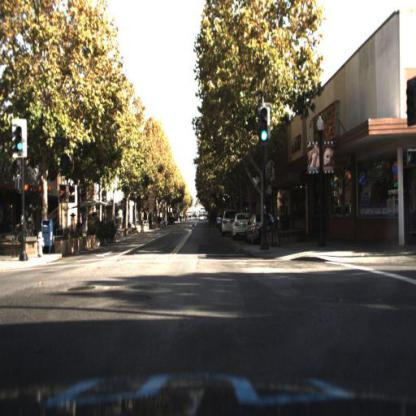car: (245, 209, 273, 241), (232, 210, 251, 242), (221, 201, 238, 235), (233, 213, 249, 240), (222, 212, 233, 235)
pedestrian: (405, 186, 416, 251), (257, 206, 269, 248)
trafficLight: (259, 106, 270, 144)
trafficLight-Green: (16, 123, 25, 158)
